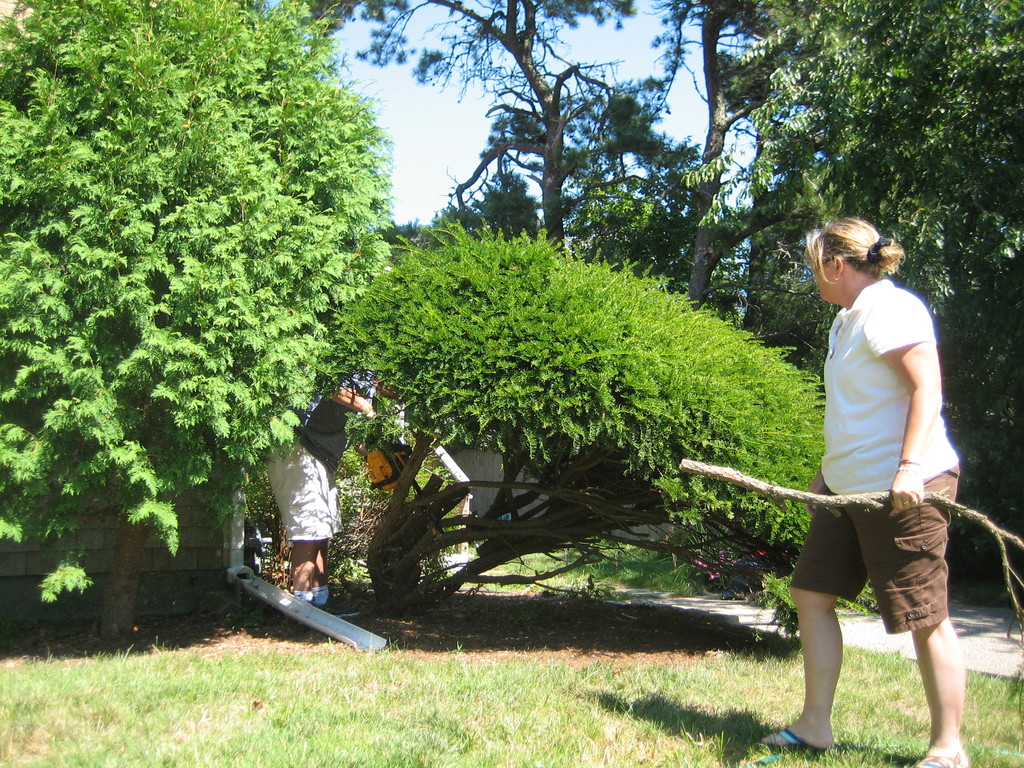Tree: (0, 0, 1024, 641)
